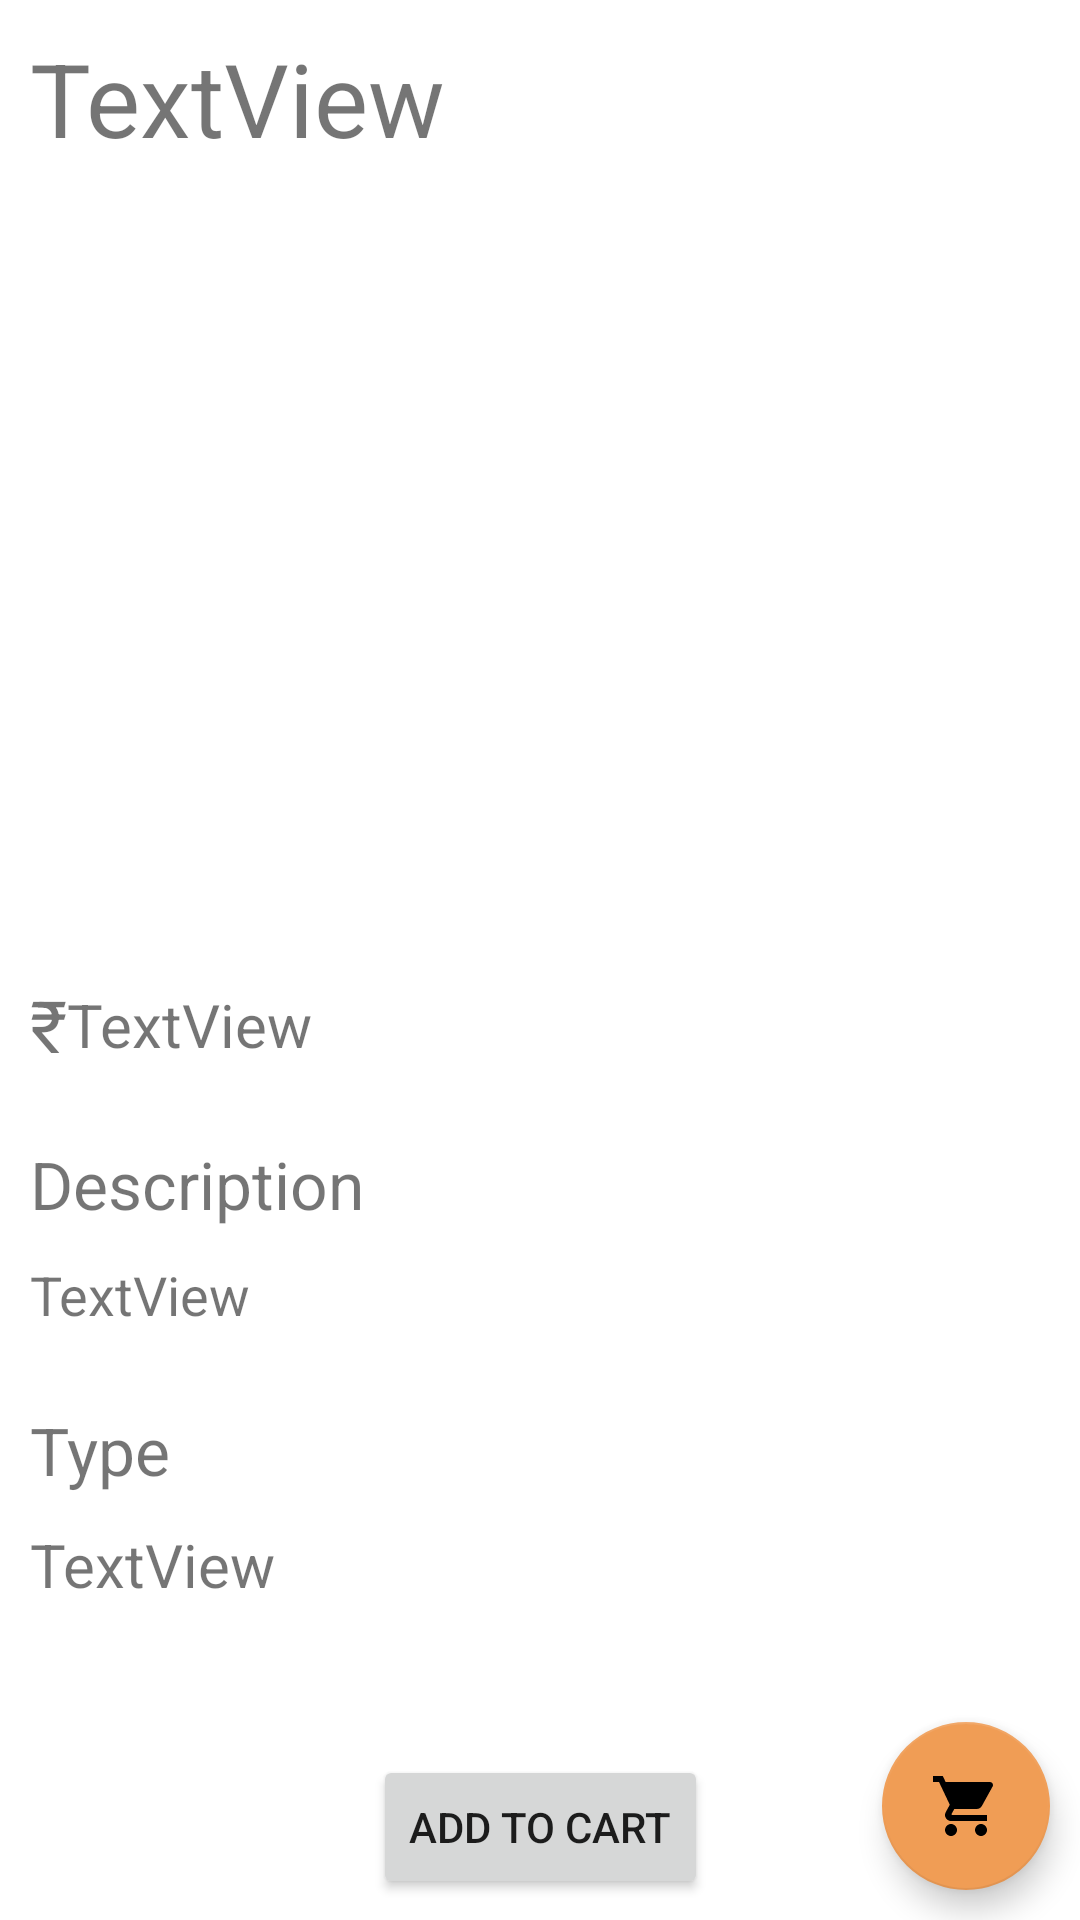

Icons on this 1080px x 1920px Android screen, each with its box as detection(x1, y1, x2, y2):
shopping cart: detection(882, 1722, 1050, 1890)
